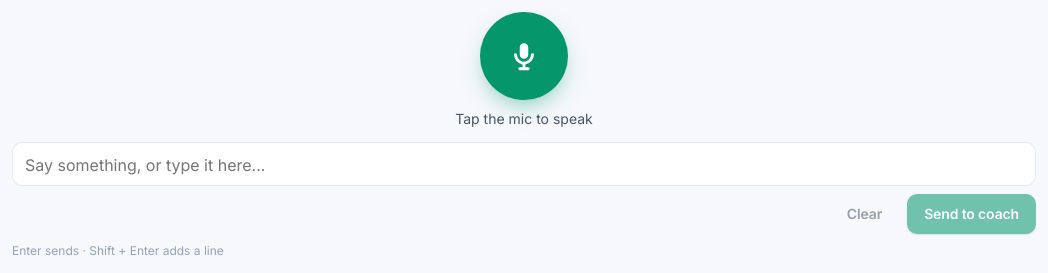
Test: VoiceInputBar › with SpeechRecognition support › shows interim speech beside the mic rather than in the composer
What coordinates should you click on to do the following:
click the button named "start recording"
I would click on:
 (524, 56)
Its box is [480,12,568,100].
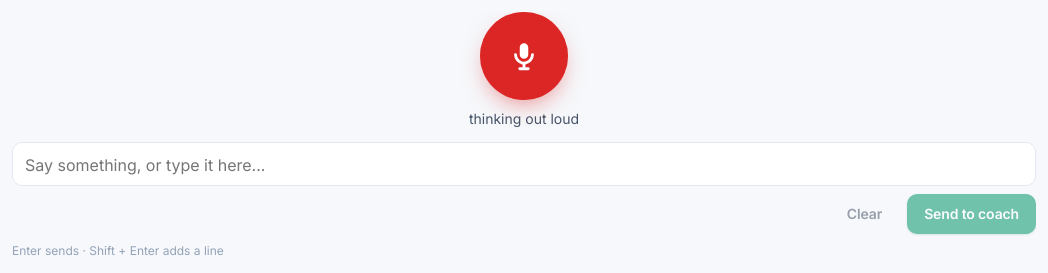
Expected: the text box named "message" is empty, [12,142,1036,186]
Expected: the text "thinking out loud" is shown, [469,108,579,130]
